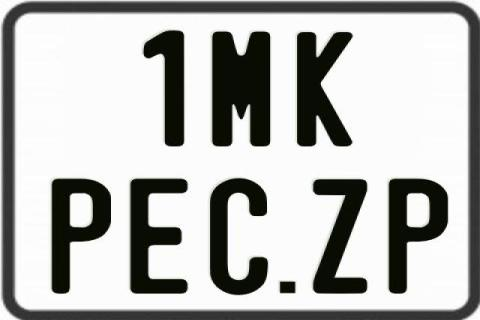0: (142, 30, 183, 150)
C: (209, 178, 270, 294)
E: (127, 177, 185, 295)
K: (297, 31, 355, 145)
M: (212, 30, 276, 146)
P: (386, 178, 450, 294), (52, 176, 112, 295)
Z: (314, 180, 368, 296)
